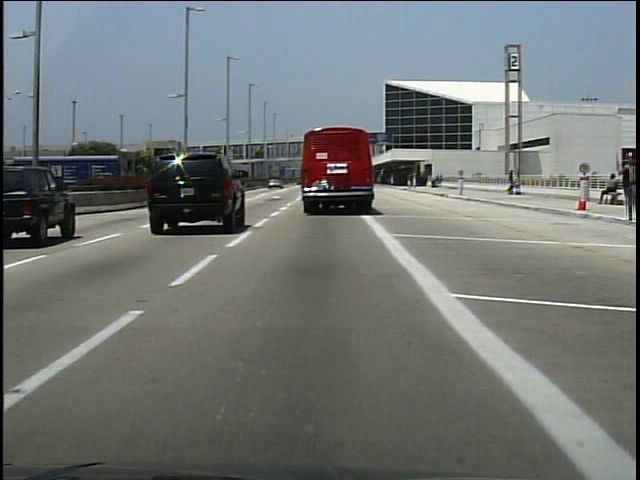person: (595, 171, 620, 208)
